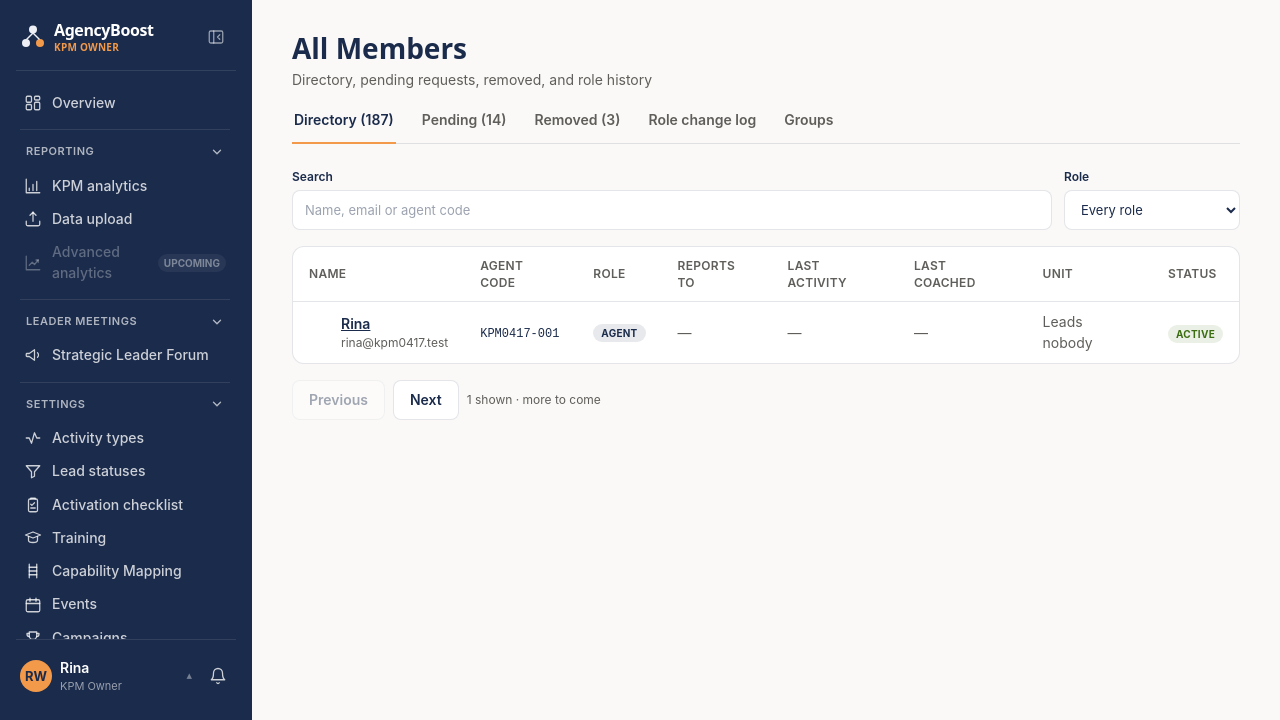
Test case: members directory (P3-T1 AC-3) › pages forward with the cursor the server returned
Click the button "Next" at (426, 400), box [393, 380, 459, 420]
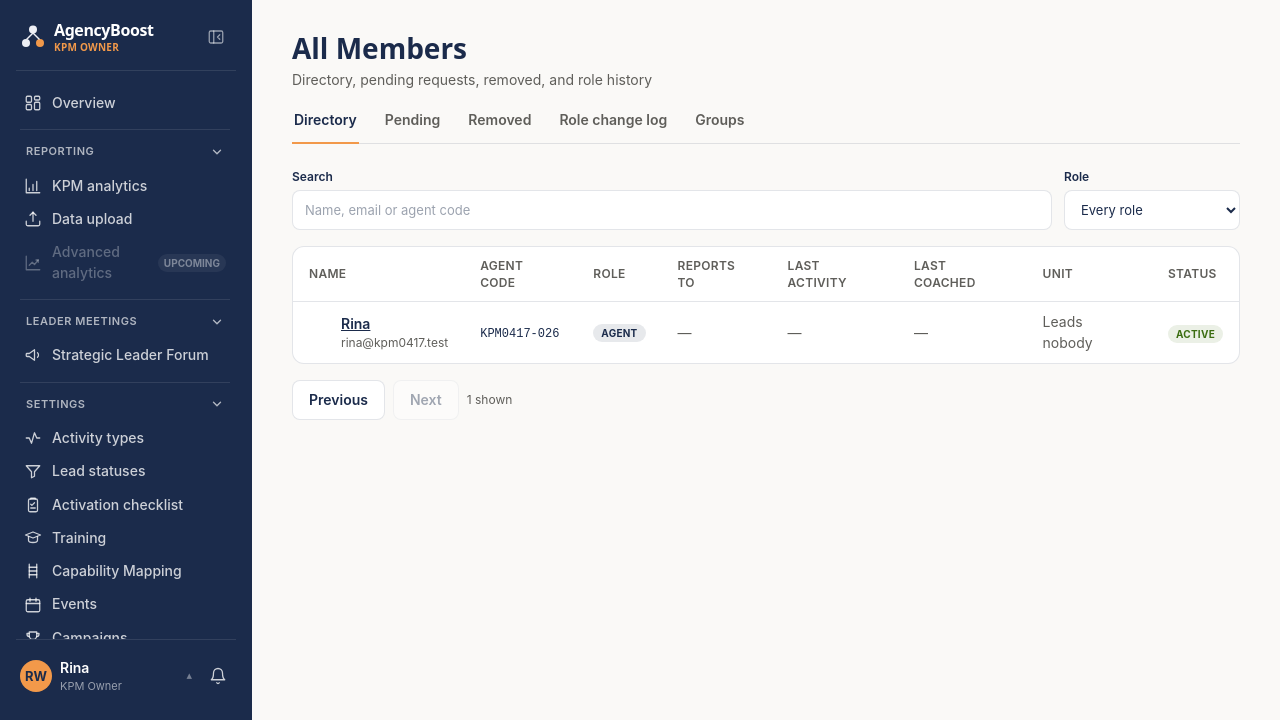
Check: the text "KPM0417-026" is shown, box [480, 327, 559, 341]
Check: the button "Next" is disabled, box [393, 380, 459, 420]
